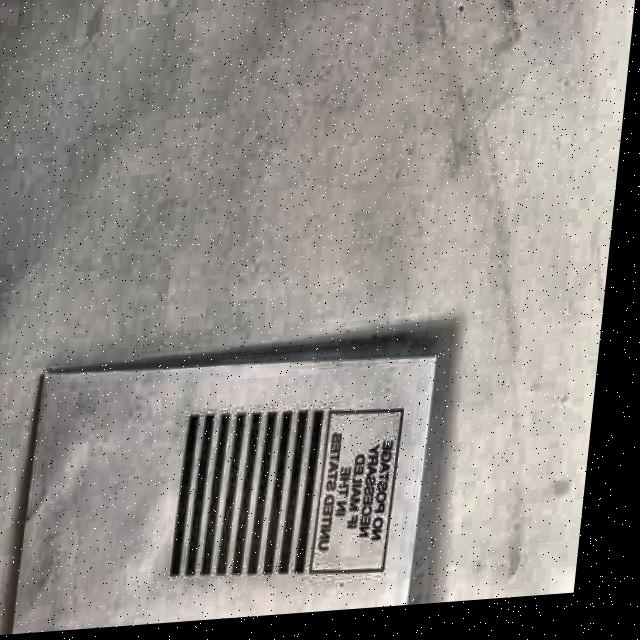paper: (12, 346, 438, 634)
